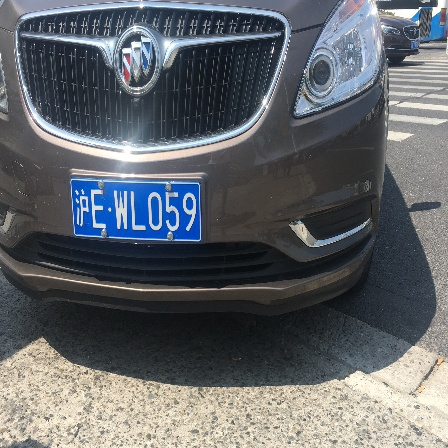plate: (65, 171, 210, 249)
